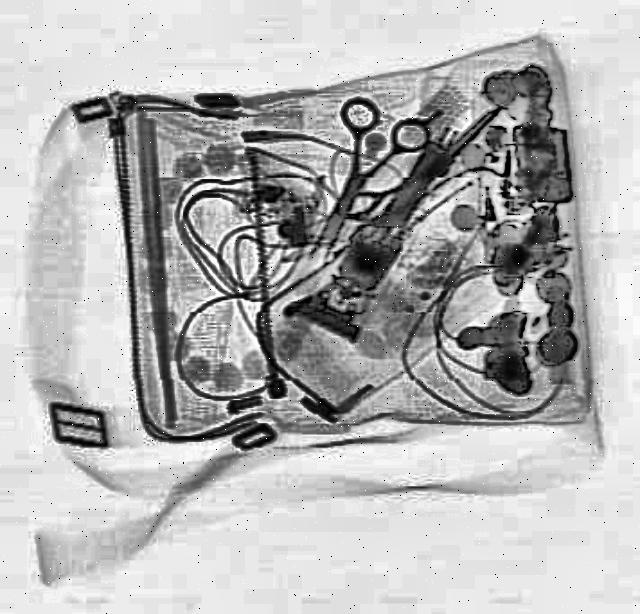Scissors: (268, 90, 434, 276)
